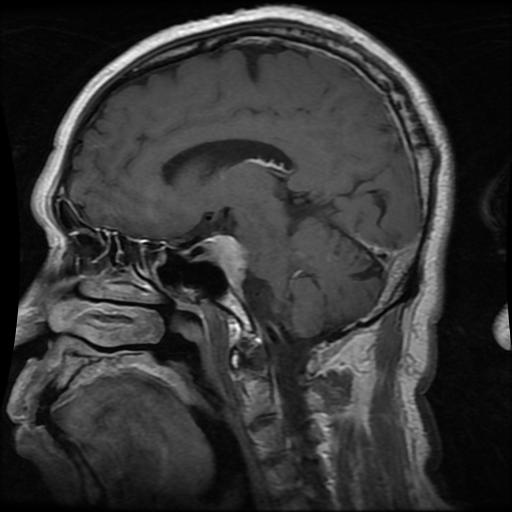Menigiomia_tumour: (194, 233, 248, 300)
